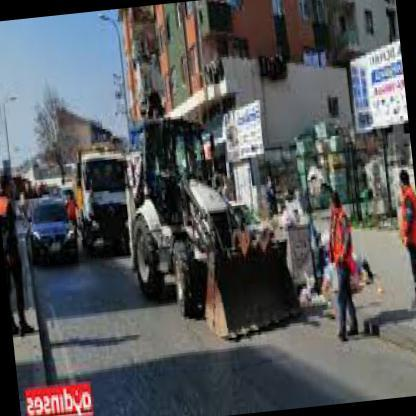Garbage: (352, 258, 374, 293), (299, 284, 320, 310)
